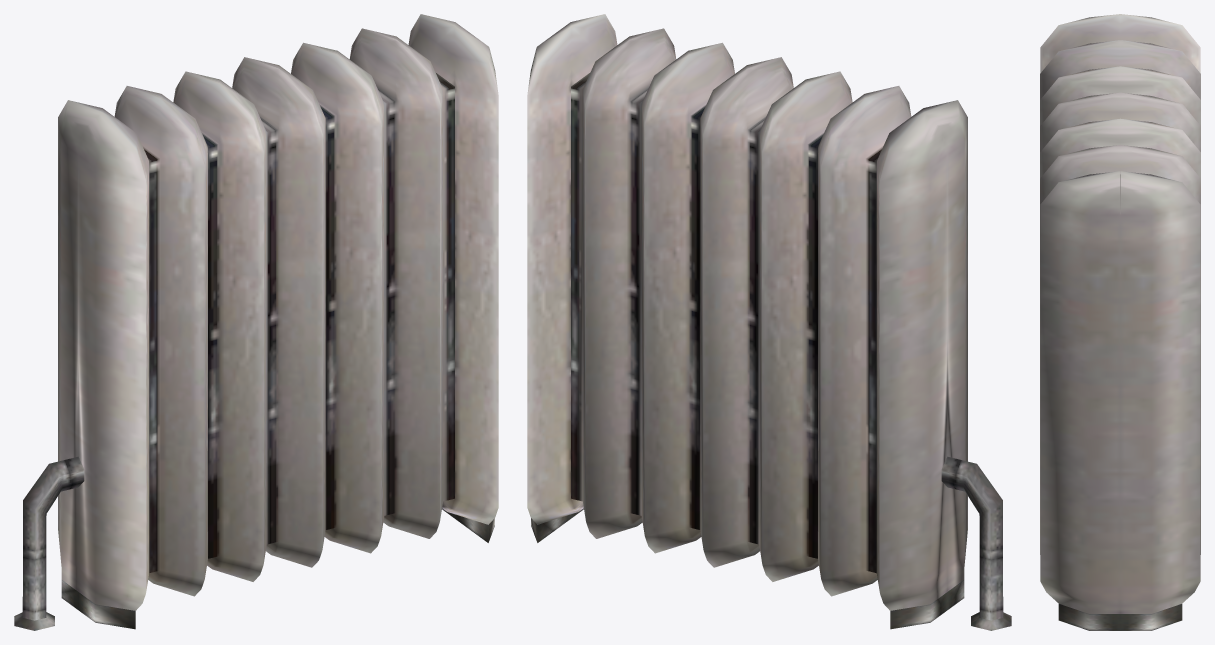
File: radiator.fbx
The picture shows the model from 3 angles, left to right: view 1: azimuth 30°, elevation 25°; view 2: azimuth 150°, elevation 25°; view 3: azimuth 270°, elevation 25°; orthographic projection. The views are drawn at different scales.
Visible parts, largest first — view 1: mesh_0; view 2: mesh_0; view 3: mesh_0.
Part boxes in pixels (bbox=[...]): mesh_0: bbox=[14, 14, 498, 630]; mesh_0: bbox=[527, 14, 1011, 630]; mesh_0: bbox=[1040, 14, 1200, 630].
Bounding box in the file's own units: 78.92 × 80 × 25.94.
Materials: 1 (1 with a texture image).
